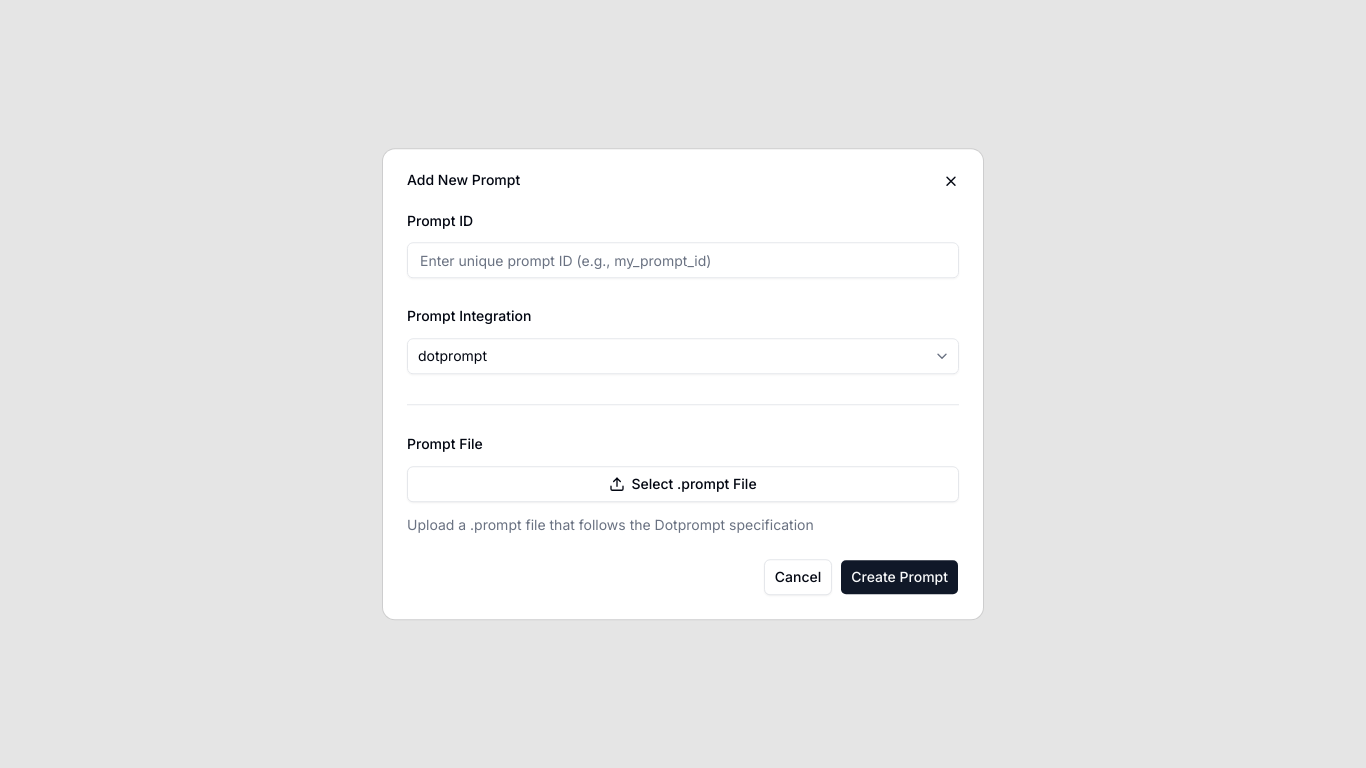
it: AddPromptForm › blocks submission and reports a missing prompt ID
Click the button "Create Prompt" at (900, 577), box left=840, top=559, right=959, bottom=595
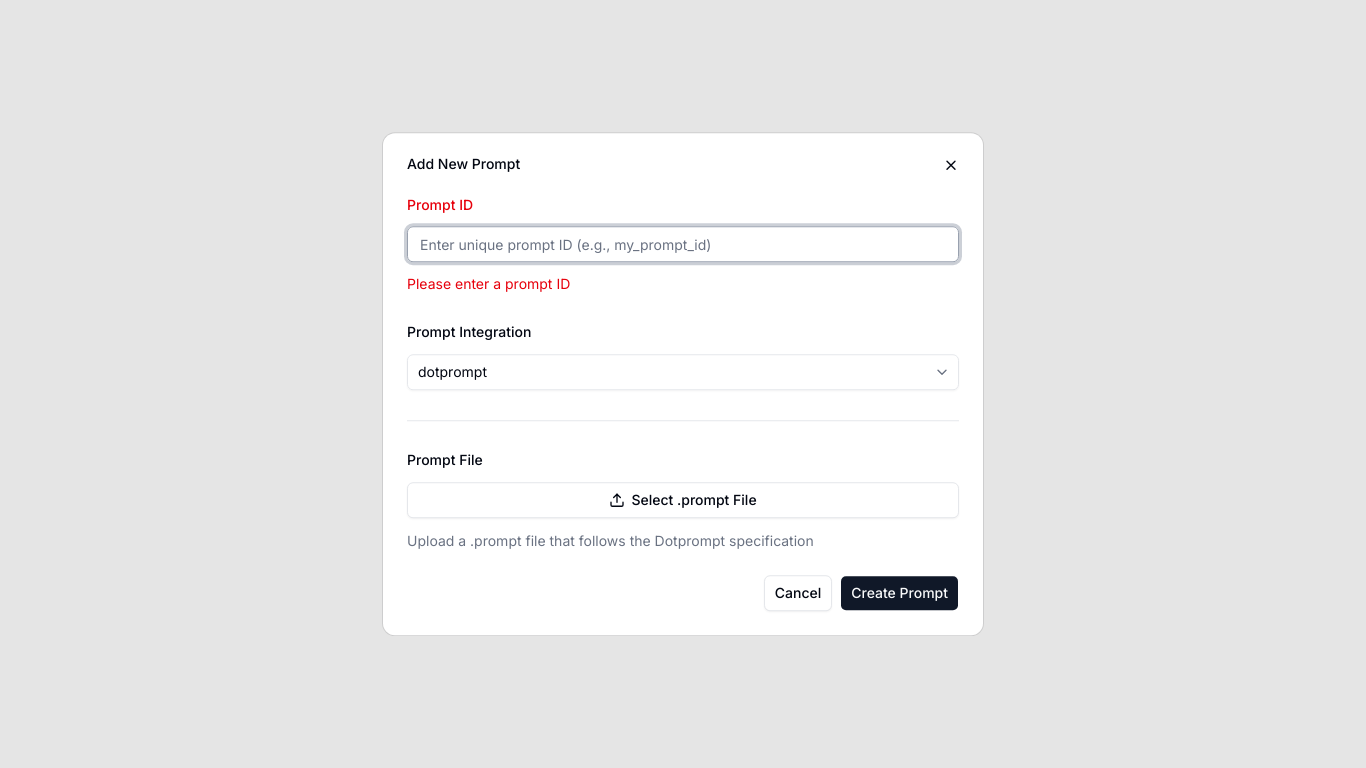
Expected: the text "Please enter a prompt ID" is shown, left=407, top=276, right=570, bottom=292
